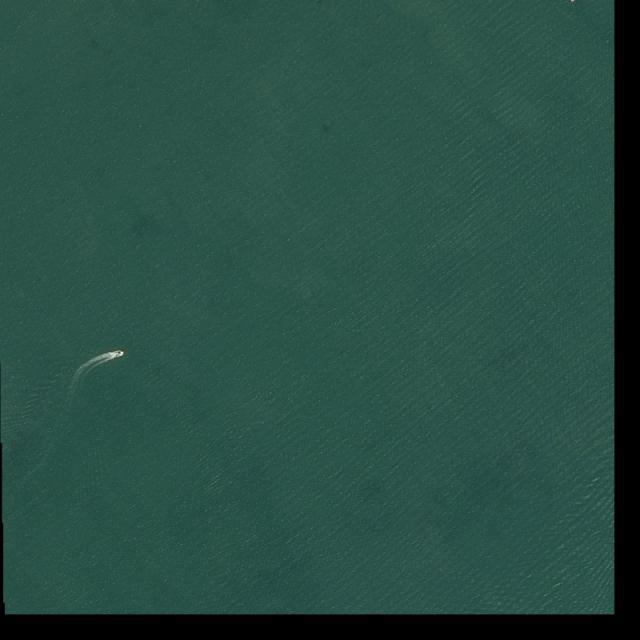ship: (116, 350, 126, 355)
